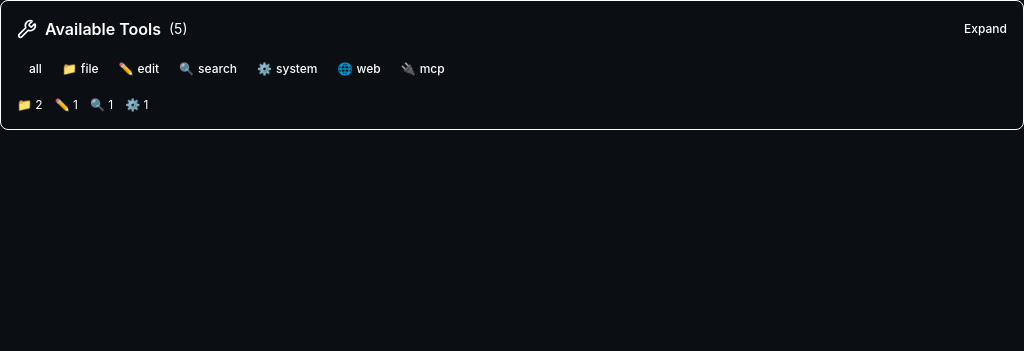
Test: ToolsPanel › filters tools when clicking category tabs
# Expand panel
Click the button "Expand". click: (986, 29)
box: [964, 21, 1007, 37]
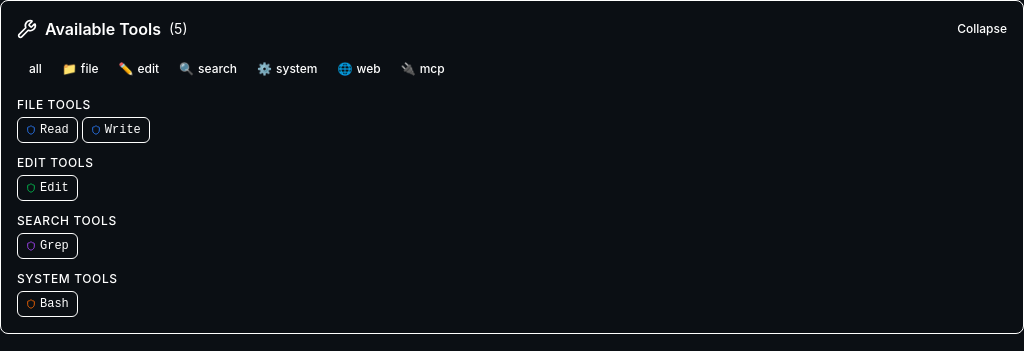
# Click file category filter
Click the button named "📁 file". click: (80, 69)
box: [54, 57, 107, 81]
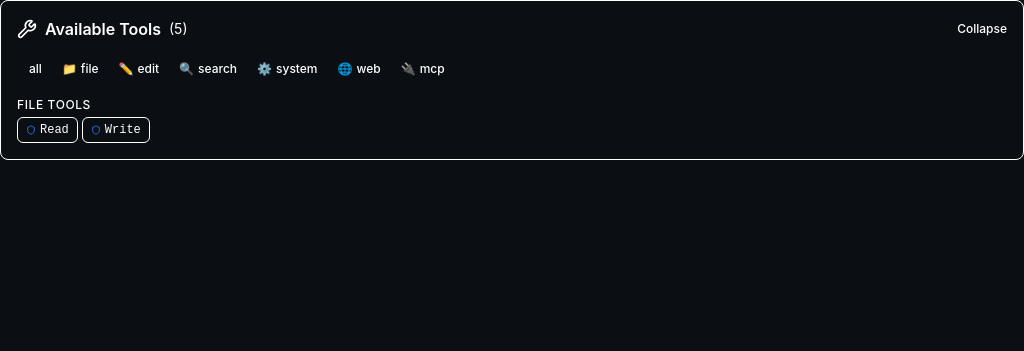
Now the text "file Tools" is shown, box [17, 97, 91, 112]
Now the text "system Tools" is gone
